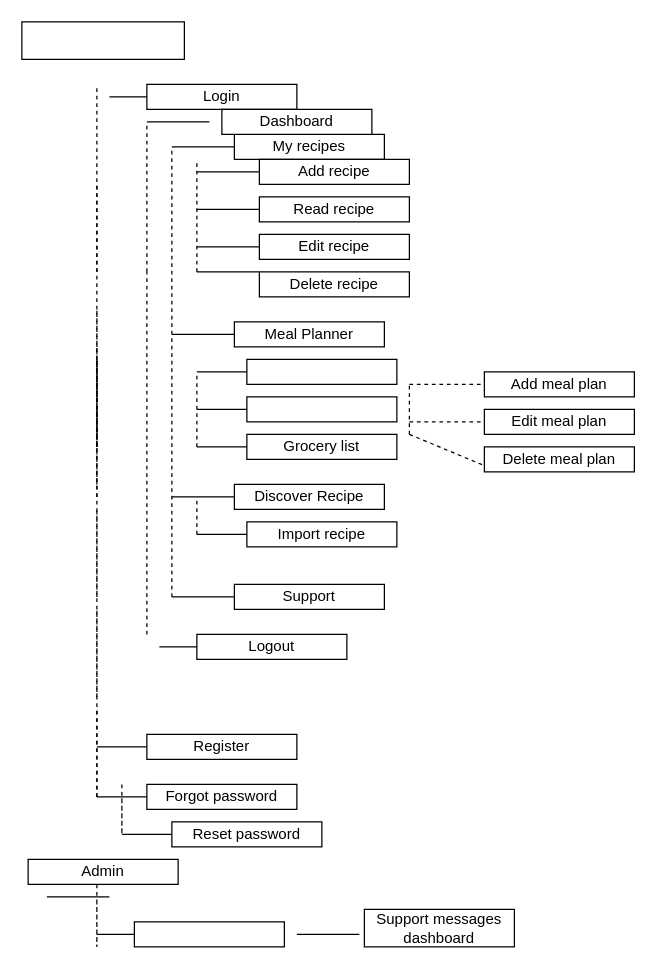
The diagram is 656 pixels wide and 970 high, and some of its shapes have lost their labels. The shapes that lost their labels are listed below. From the top down, each one's centre as x and y in pixels, then its label:
At (x=102, y=40): "Home".
At (x=321, y=371): "Weekly meal planner".
At (x=321, y=409): "Daily meal planner".
At (x=208, y=934): "Admin dashbord".
